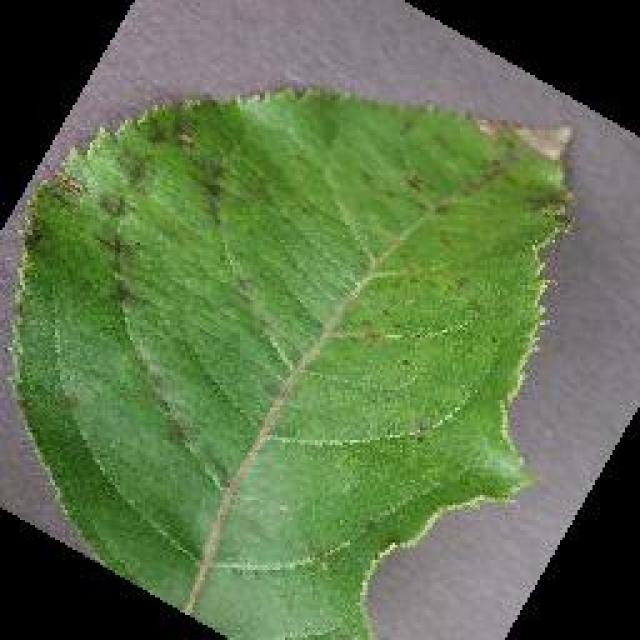apple scab disease: (5, 80, 577, 638)
